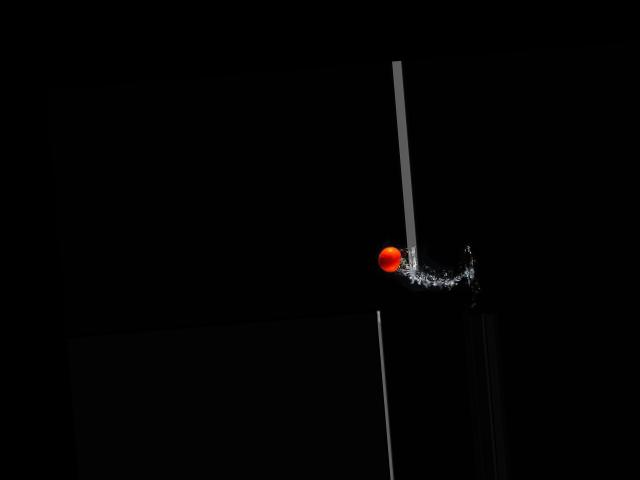tomato: (378, 245, 402, 272)
